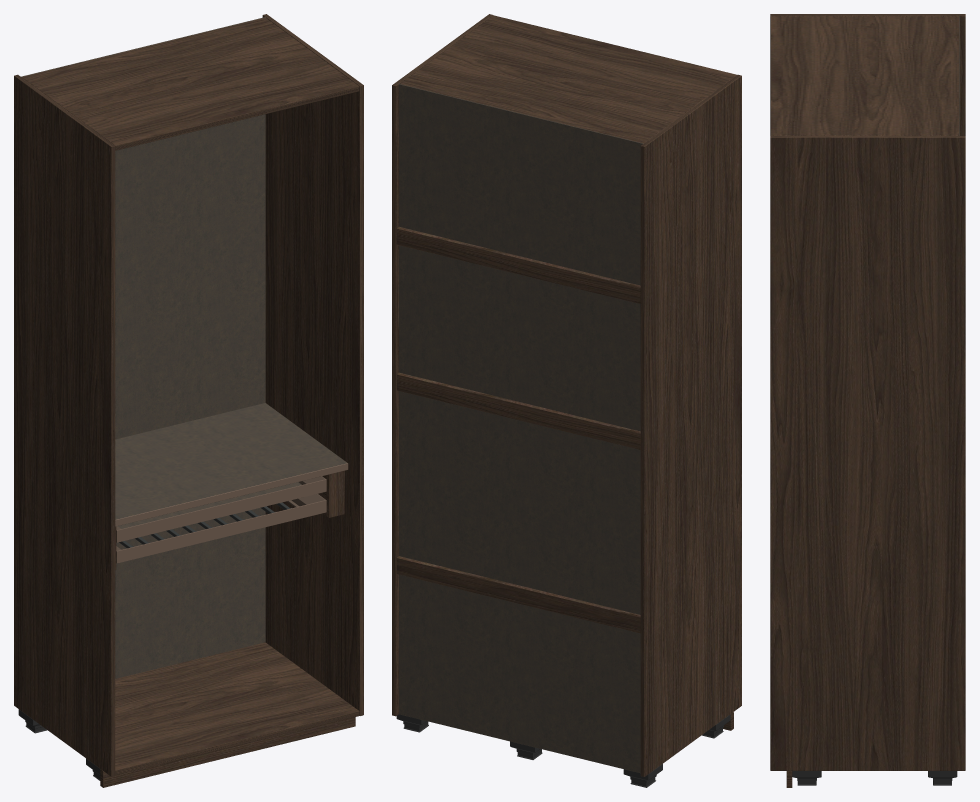
The picture shows the model from 3 angles, left to right: view 1: azimuth 30°, elevation 25°; view 2: azimuth 150°, elevation 25°; view 3: azimuth 270°, elevation 25°; orthographic projection.
Visible parts, largest first — view 1: HK1001084, BONG_01; view 2: HK1001084; view 3: HK1001084.
Part boxes in pixels (box(x1,y1,x2,y2)): HK1001084: box(14, 14, 363, 787); BONG_01: box(115, 463, 348, 563); HK1001084: box(392, 14, 741, 787); HK1001084: box(770, 14, 965, 787).
Size of the model in its own units: 0.9 by 2.2 by 0.6.
Materials: 8 (7 with a texture image).
